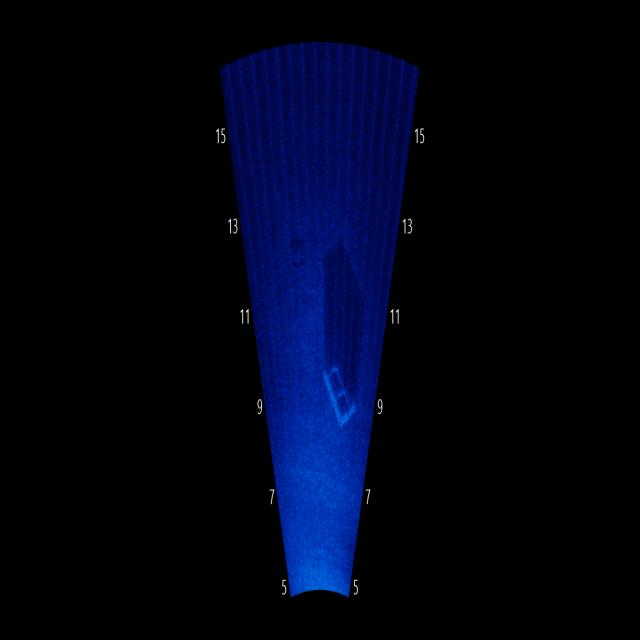square: (319, 353, 362, 444)
